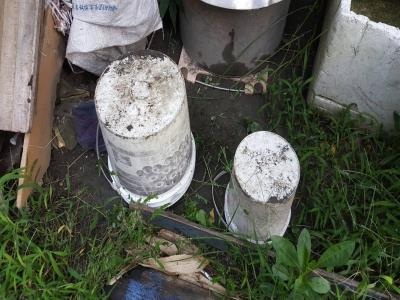bucket: (93, 48, 198, 212), (221, 128, 303, 247), (181, 1, 293, 72)
plastic_bag: (61, 1, 166, 68)
styrofoam: (303, 1, 400, 125)
